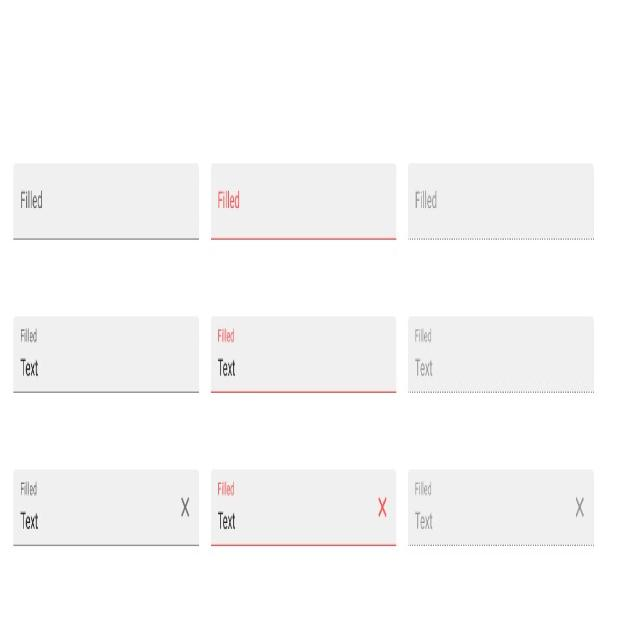VTextField: (407, 466, 595, 552), (210, 466, 398, 550), (12, 466, 201, 549), (209, 161, 398, 243), (12, 161, 200, 243), (12, 314, 200, 396), (210, 314, 398, 396), (407, 315, 595, 397), (408, 162, 595, 244)
